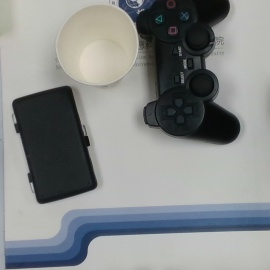cup: (55, 4, 138, 87)
remote: (138, 1, 240, 144)
